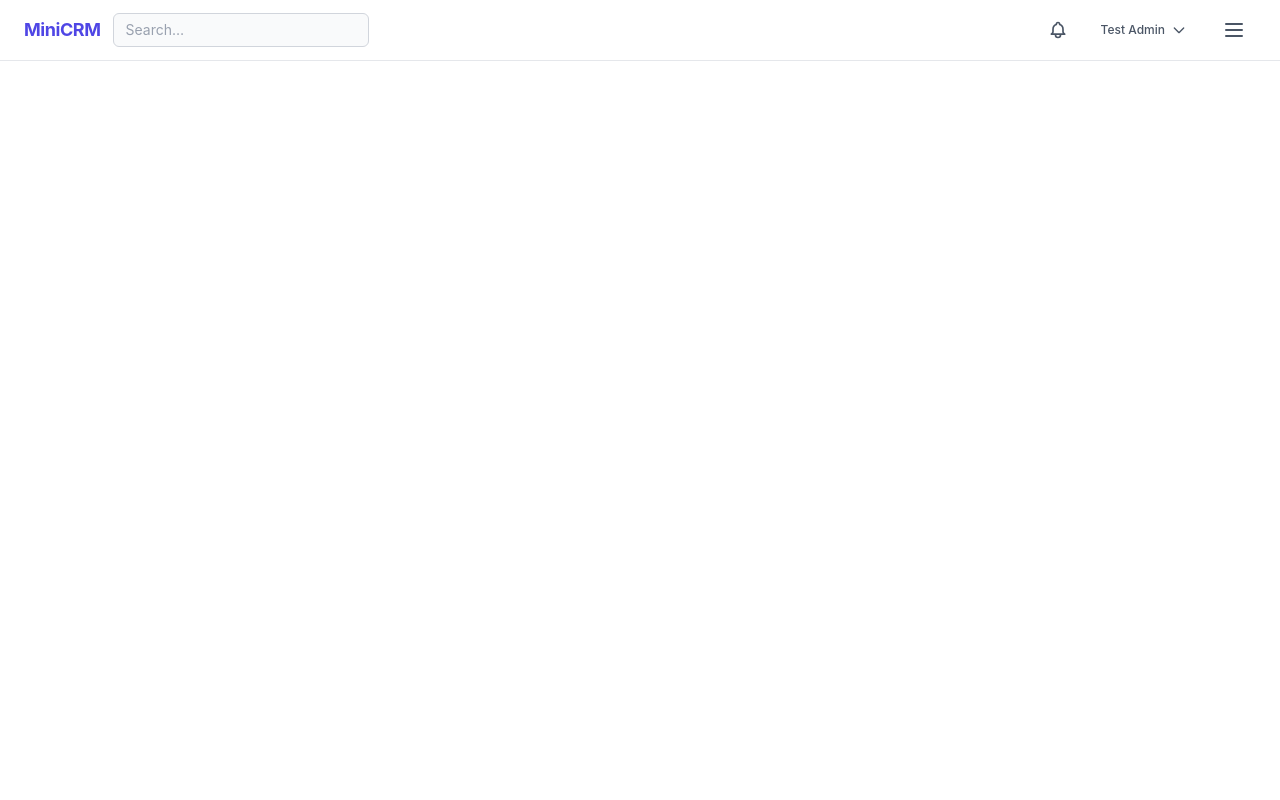
Test: NavHamburger › clicking the toggle opens the popover
Step 1. Click the button with test id "nav-menu-toggle" → click(1234, 30), box [1212,8,1256,52]
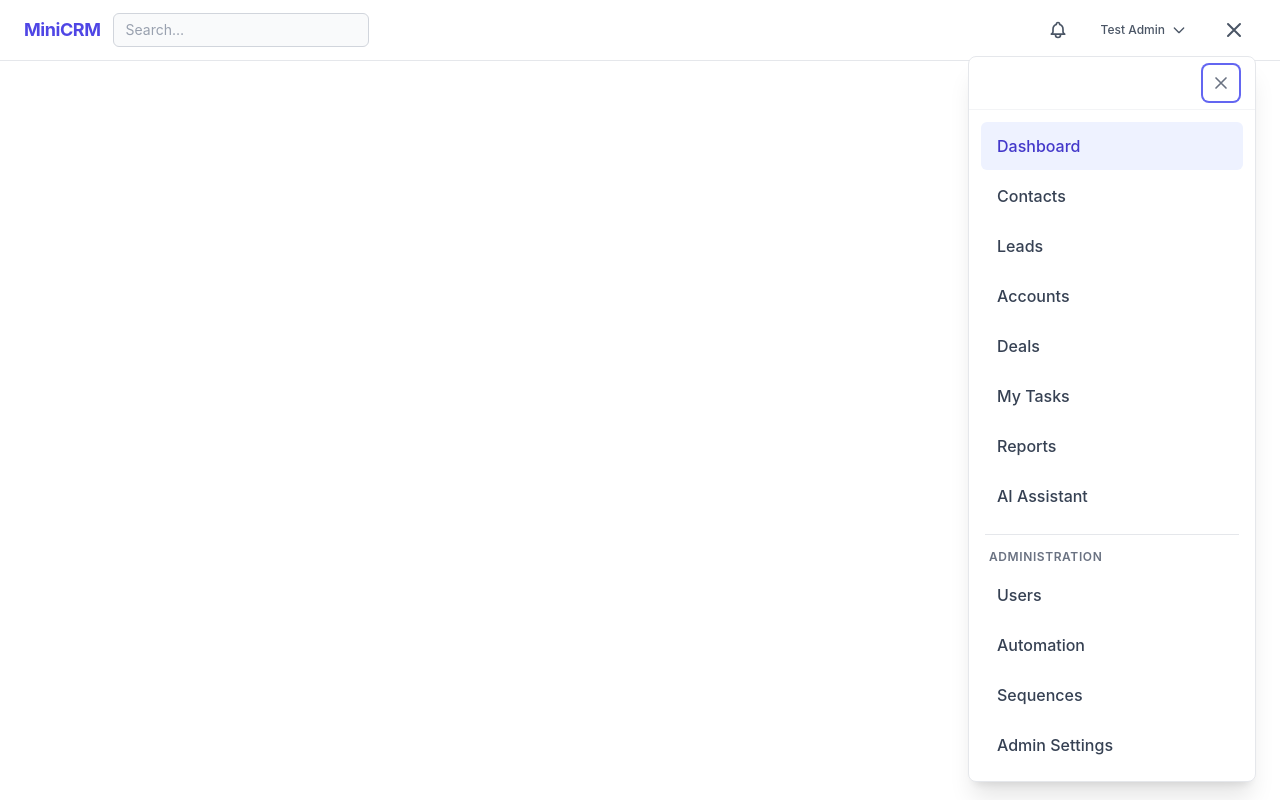
Now the dialog with test id "nav-hamburger-drawer" is shown, box [968,56,1256,782]
